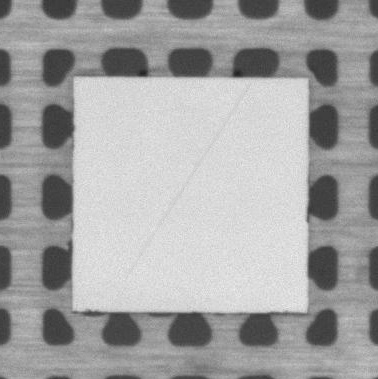DIE_CRACK: (126, 84, 249, 278)
